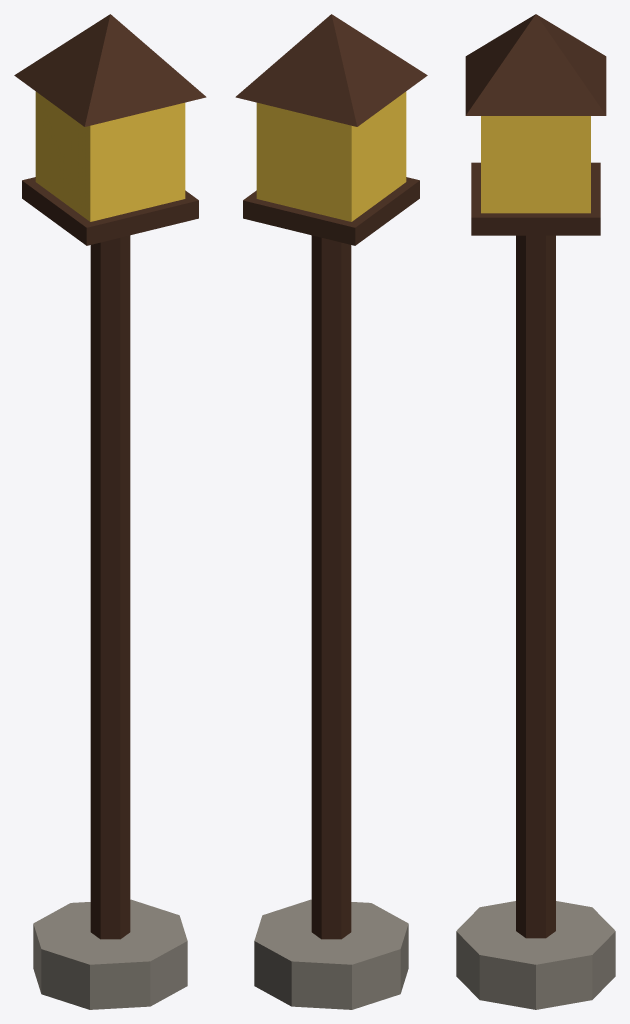
The model's file is lamp_post.glb.
The picture shows the model from 3 angles, left to right: view 1: azimuth 30°, elevation 25°; view 2: azimuth 150°, elevation 25°; view 3: azimuth 270°, elevation 25°; orthographic projection.
Parts seen in each view (by area): view 1: lamp_post; view 2: lamp_post; view 3: lamp_post.
Part boxes in pixels (bbox=[...]): lamp_post: bbox=[14, 14, 206, 1009]; lamp_post: bbox=[235, 14, 427, 1009]; lamp_post: bbox=[456, 14, 615, 1009].
Size of the model in its own units: 0.32 by 2.13 by 0.32.
